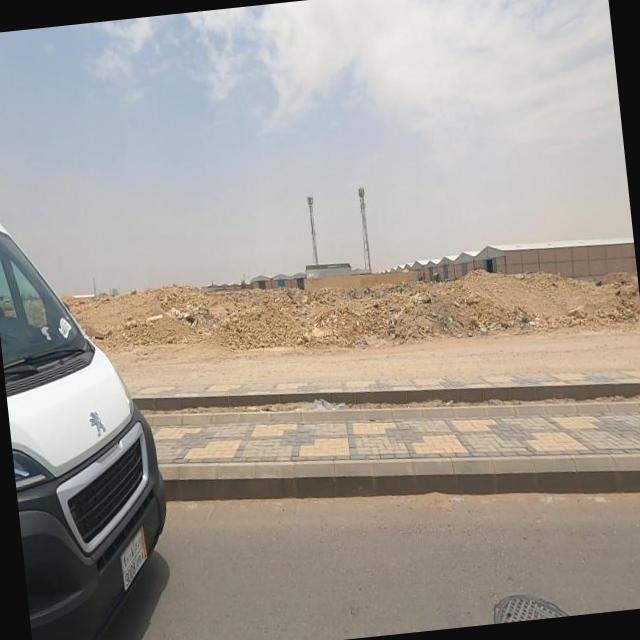debris: (128, 266, 242, 363), (359, 254, 449, 332), (414, 281, 469, 359), (362, 276, 408, 358)
